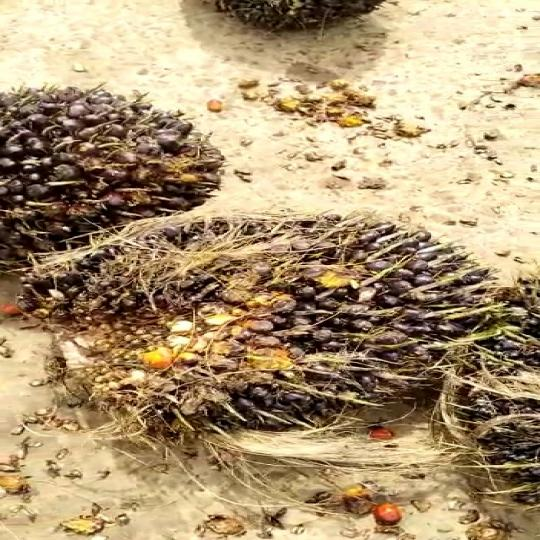mentah: (20, 209, 504, 450), (0, 70, 209, 252)
